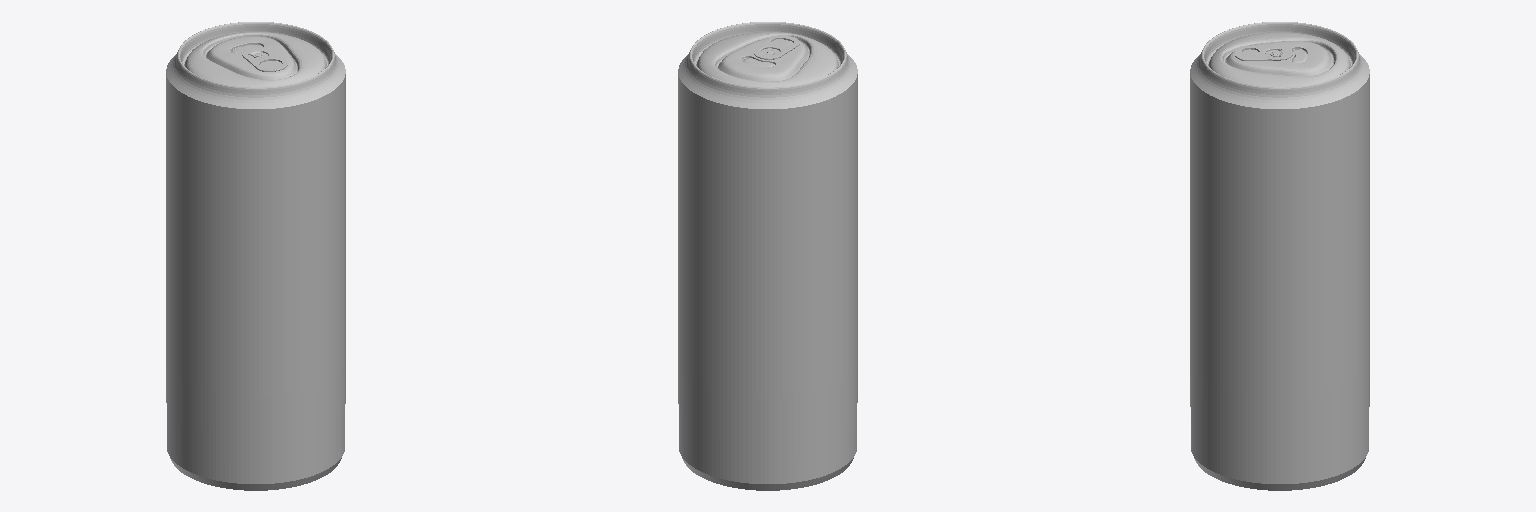
File: soda_can.obj
3 renders of one model, left to right at view 1: azimuth 30°, elevation 25°; view 2: azimuth 150°, elevation 25°; view 3: azimuth 270°, elevation 25°, orthographic.
Parts seen in each view (by area): view 1: soda_can_soda_can, top_bottom, body; view 2: soda_can_soda_can, top_bottom, body; view 3: soda_can_soda_can, top_bottom, body.
Part boxes in pixels (left/top/right/bottom): soda_can_soda_can: left=166, top=62, right=345, bottom=483; top_bottom: left=170, top=22, right=341, bottom=490; body: left=167, top=54, right=345, bottom=108; soda_can_soda_can: left=678, top=74, right=857, bottom=483; top_bottom: left=682, top=22, right=853, bottom=490; body: left=678, top=54, right=857, bottom=108; soda_can_soda_can: left=1190, top=74, right=1369, bottom=483; top_bottom: left=1194, top=22, right=1365, bottom=490; body: left=1190, top=54, right=1369, bottom=108.
Bounding box in the file's own units: 0.06 × 0.15 × 0.06.